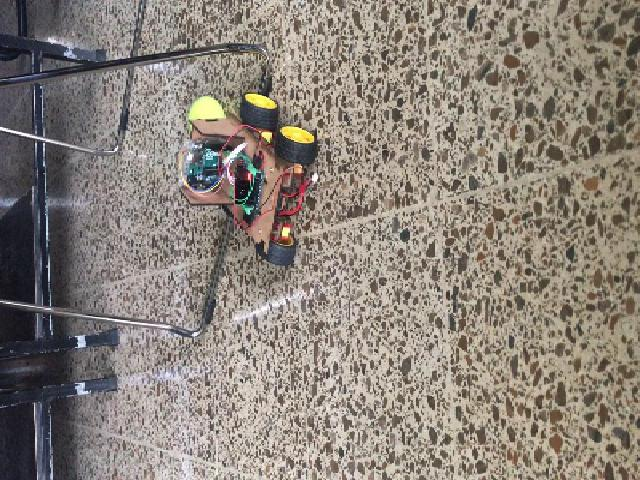Ball: (182, 96, 222, 119)
Robot: (179, 91, 318, 266)
